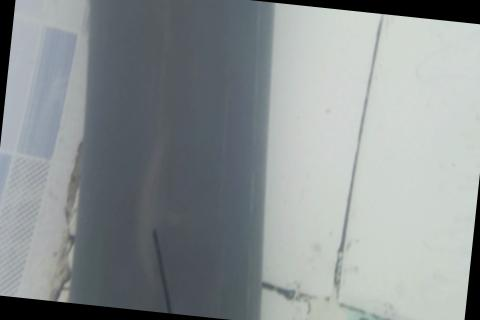keretakan: (144, 225, 183, 314)
